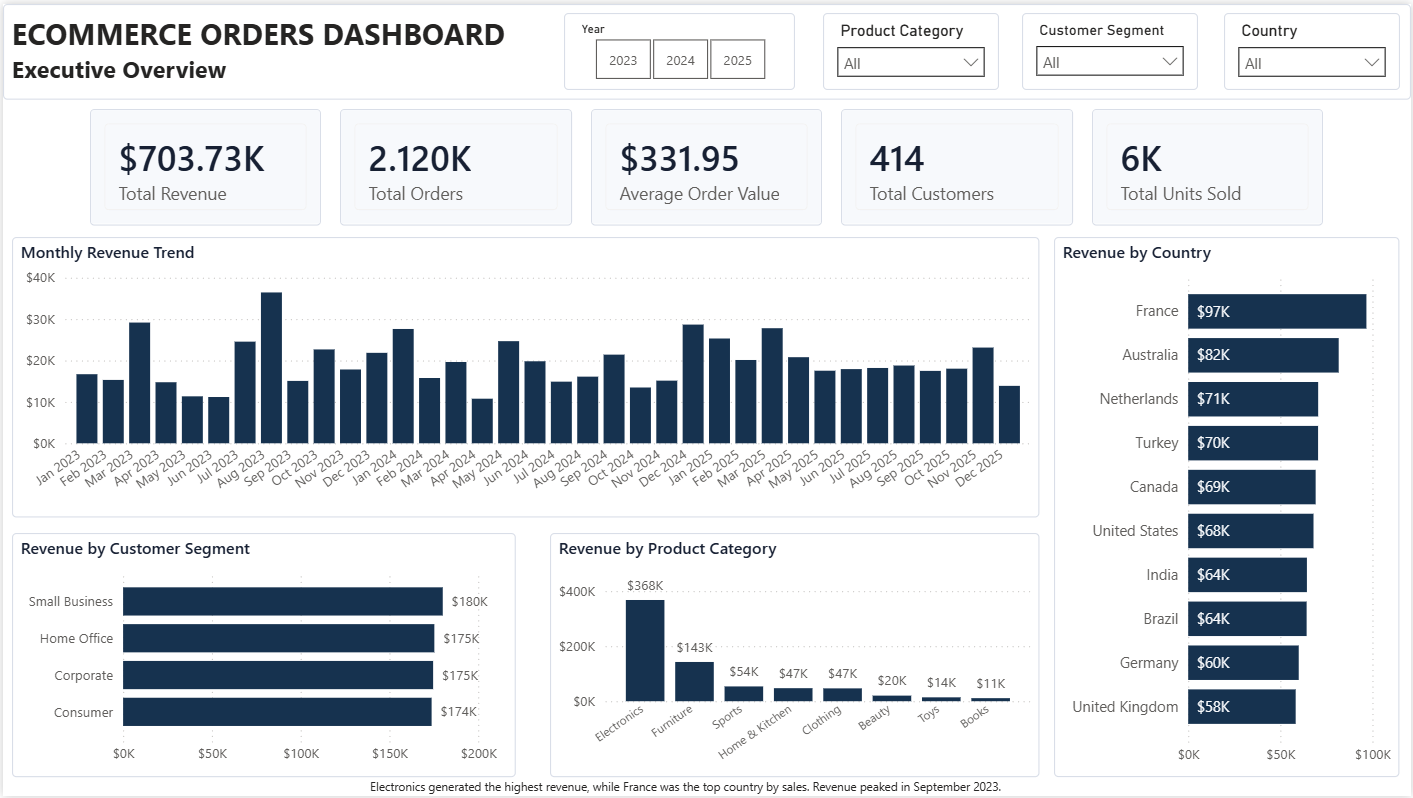

This screenshot's page, from the dashboard's own definition file:
{"tool":"powerbi","page":{"name":"1-Executive Overview","canvas":[1280,720],"ordinal":0},"visuals":[{"type":"cardVisual","fields":{"Data":["Measures...Total Revenue"]},"box":[78.9,95.6,210,105.6],"z":0},{"type":"lineStackedColumnComboChart","title":"Monthly Revenue Trend","fields":{"Y":["Measures...Total Revenue"],"Category":["Date Table.Month Year"]},"box":[8.4,211.4,934,254.5],"z":1000},{"type":"cardVisual","fields":{"Data":["Measures...Average Order Value"]},"box":[534.4,95.6,210,105.6],"z":2000},{"type":"clusteredColumnChart","title":" Revenue by Product Category","fields":{"Category":["ecommerce_clean.product_category"],"Y":["Measures...Total Revenue"]},"box":[497.5,480.7,444.9,221.9],"z":3000},{"type":"cardVisual","fields":{"Data":["Measures...Total Orders"]},"box":[306.1,95.6,211.1,105.6],"z":4000},{"type":"barChart","title":"Revenue by Country","fields":{"Category":["ecommerce_clean.country"],"Y":["Measures...Total Revenue"]},"box":[955,211.4,314.5,491.2],"z":5000},{"type":"cardVisual","fields":{"Data":["Measures...Total Customers"]},"box":[761.7,95.6,211.1,105.6],"z":6000},{"type":"barChart","title":"Revenue by Customer Segment","fields":{"Category":["ecommerce_clean.customer_segment"],"Y":["Measures...Total Revenue"]},"box":[8.4,480.7,457.5,221.9],"z":7000},{"type":"cardVisual","fields":{"Data":["Measures...Total Units Sold"]},"box":[990,95.6,210,105.6],"z":8000},{"type":"textbox","box":[0,0,1280,86.7],"z":9000},{"type":"slicer","fields":{"Values":["Date Table.Year"]},"box":[510,7.8,210,70],"z":10000},{"type":"slicer","fields":{"Values":["ecommerce_clean.product_category"]},"box":[745.6,7.8,160,70],"z":11000},{"type":"slicer","fields":{"Values":["ecommerce_clean.country"]},"box":[1110,7.8,160,70],"z":12000},{"type":"slicer","fields":{"Values":["ecommerce_clean.customer_segment"]},"box":[926.7,7.8,160,70],"z":13000},{"type":"textbox","box":[333.5,702,613,17],"z":14000}]}

Visuals, with their boxes in screenshot pixels (x1, y1, x2, y2), scaled from the page's 1280x720 canvas onto the 1413x798 screenshot:
cardVisual - Measures...Total Revenue: 87 106 319 223
"Monthly Revenue Trend" lineStackedColumnComboChart: 9 234 1040 516
cardVisual - Measures...Average Order Value: 590 106 822 223
" Revenue by Product Category" clusteredColumnChart: 549 533 1040 779
cardVisual - Measures...Total Orders: 338 106 571 223
"Revenue by Country" barChart: 1054 234 1401 779
cardVisual - Measures...Total Customers: 841 106 1074 223
"Revenue by Customer Segment" barChart: 9 533 514 779
cardVisual - Measures...Total Units Sold: 1093 106 1325 223
textbox: 0 0 1412 96
slicer - Date Table.Year: 563 9 795 86
slicer - ecommerce_clean.product_category: 823 9 1000 86
slicer - ecommerce_clean.country: 1225 9 1402 86
slicer - ecommerce_clean.customer_segment: 1023 9 1200 86
textbox: 368 778 1045 797
